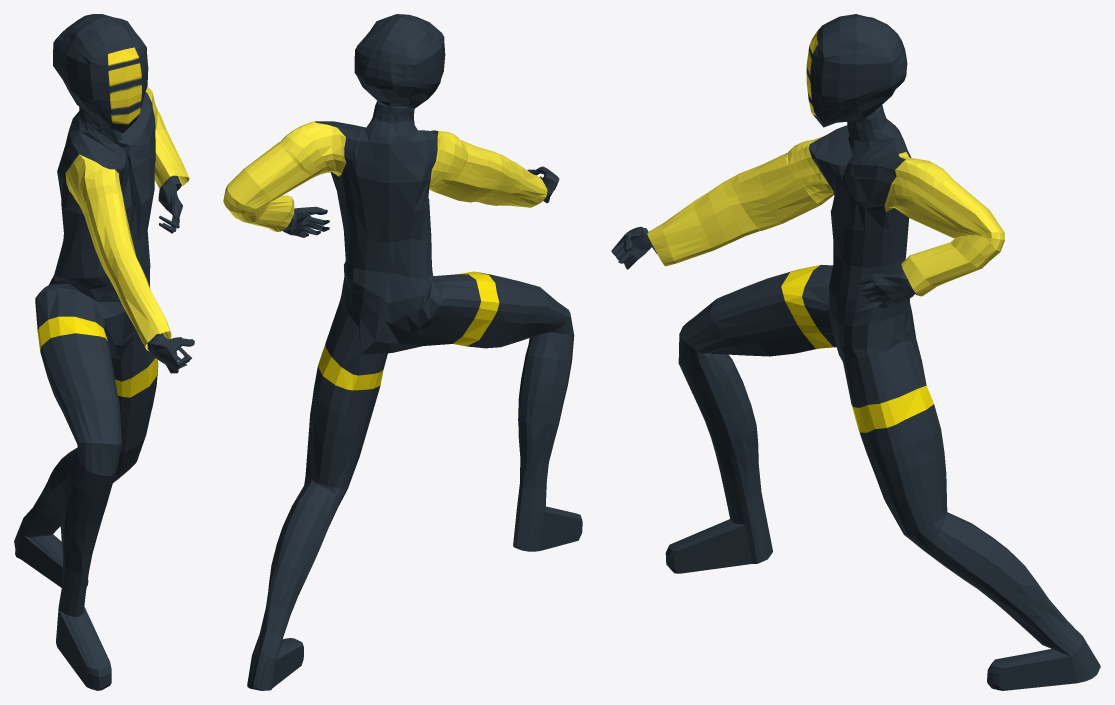
Rendered from Sentry_WL_000020.obj.
The picture shows the model from 3 angles, left to right: view 1: azimuth 30°, elevation 25°; view 2: azimuth 150°, elevation 25°; view 3: azimuth 270°, elevation 25°; orthographic projection. The views are drawn at different scales.
Parts seen in each view (by area): view 1: Cube; view 2: Cube; view 3: Cube.
Boxes of the visible parts, bbox=[...] form: Cube: bbox=[14, 14, 194, 690]; Cube: bbox=[223, 14, 582, 690]; Cube: bbox=[611, 14, 1100, 690].
Size of the model in its own units: 1.33 by 3.59 by 2.46.
